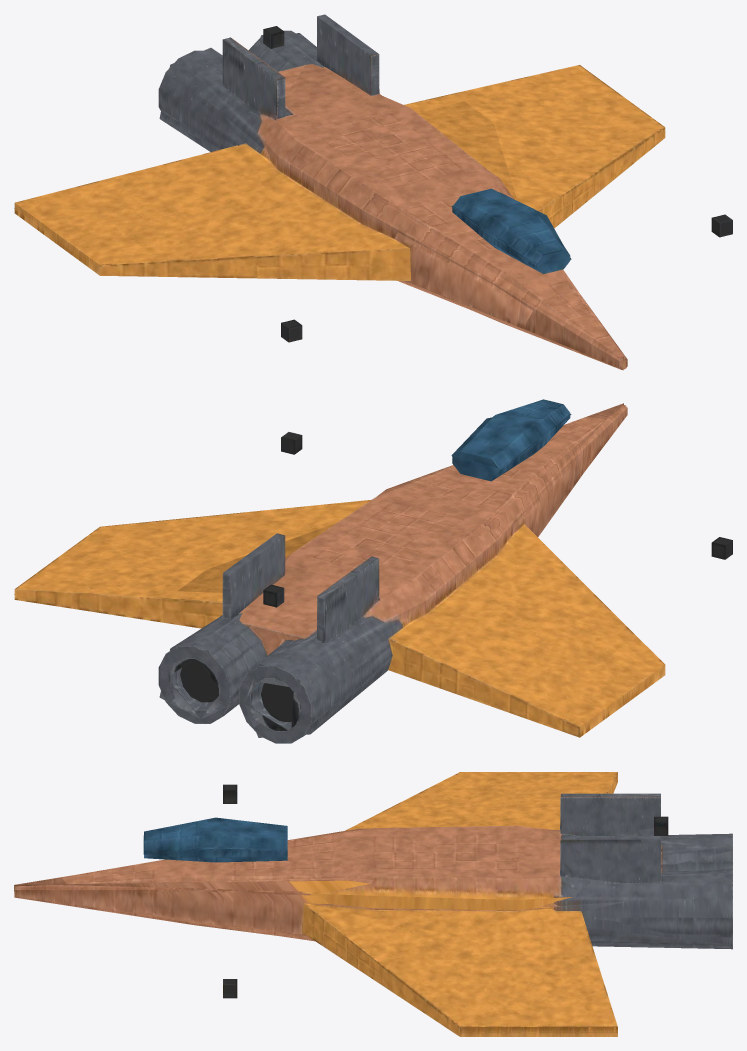
Rendered from sd_npc_raider.glb.
3 views of the same model, one above another, from view 1: azimuth 30°, elevation 25°; view 2: azimuth 150°, elevation 25°; view 3: azimuth 270°, elevation 25° (orthographic). The views are drawn at different scales.
Visible parts, largest first — view 1: LOD0_body, LOD1_body; view 2: LOD0_body, LOD1_body; view 3: LOD0_body, LOD1_body.
Part boxes in pixels (<box>): LOD0_body: <box>14,14,732,369</box>; LOD1_body: <box>14,33,623,370</box>; LOD0_body: <box>14,399,732,743</box>; LOD1_body: <box>14,403,665,737</box>; LOD0_body: <box>14,772,732,1036</box>; LOD1_body: <box>14,797,732,1032</box>.
Size of the model in its own units: 0.8414 by 0.17 by 1.
1 material, 1 textured.
